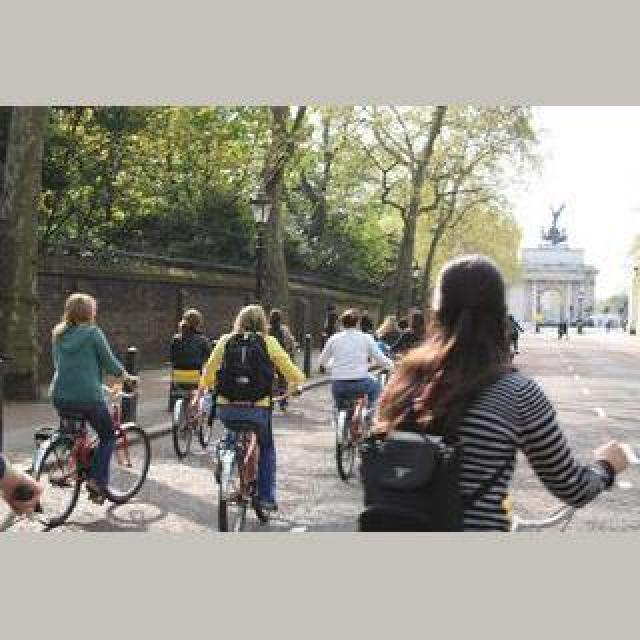MC-Bike: (366, 254, 628, 530), (200, 302, 304, 520), (48, 292, 134, 490), (318, 306, 392, 446), (166, 312, 212, 444), (0, 450, 46, 532), (268, 310, 298, 354)
Person: (29, 387, 151, 511), (211, 420, 273, 530), (333, 386, 377, 482), (172, 387, 212, 459)
